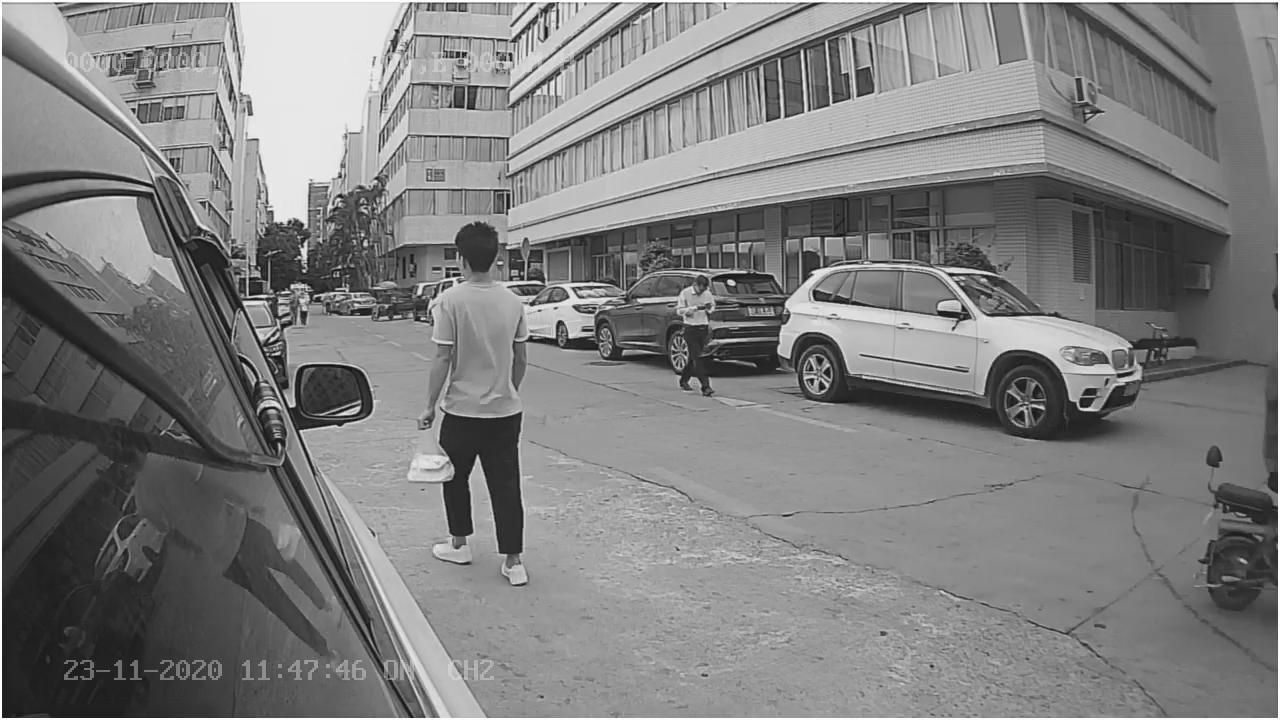person: (413, 218, 539, 587)
